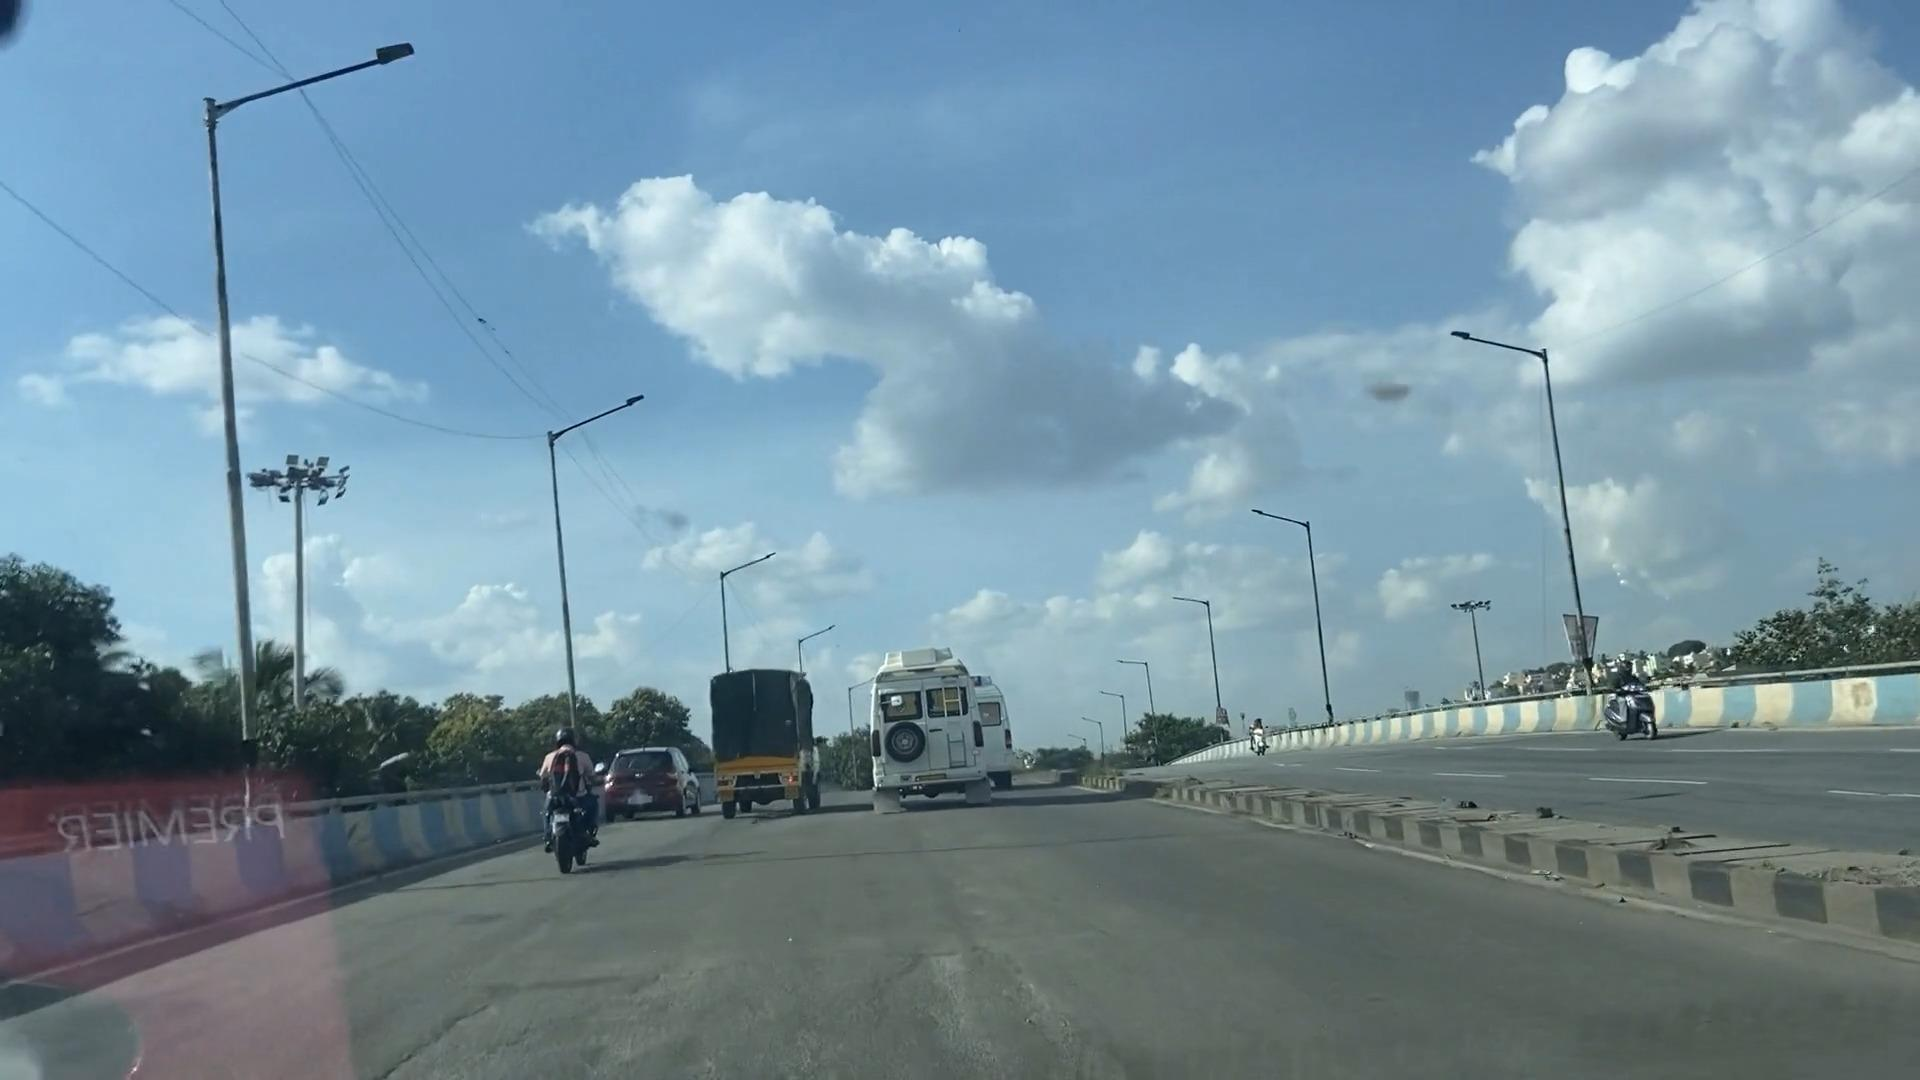HMV: (704, 656, 828, 818), (868, 654, 995, 810)
LMV: (378, 907, 1124, 936), (528, 724, 614, 867), (610, 726, 695, 831)
